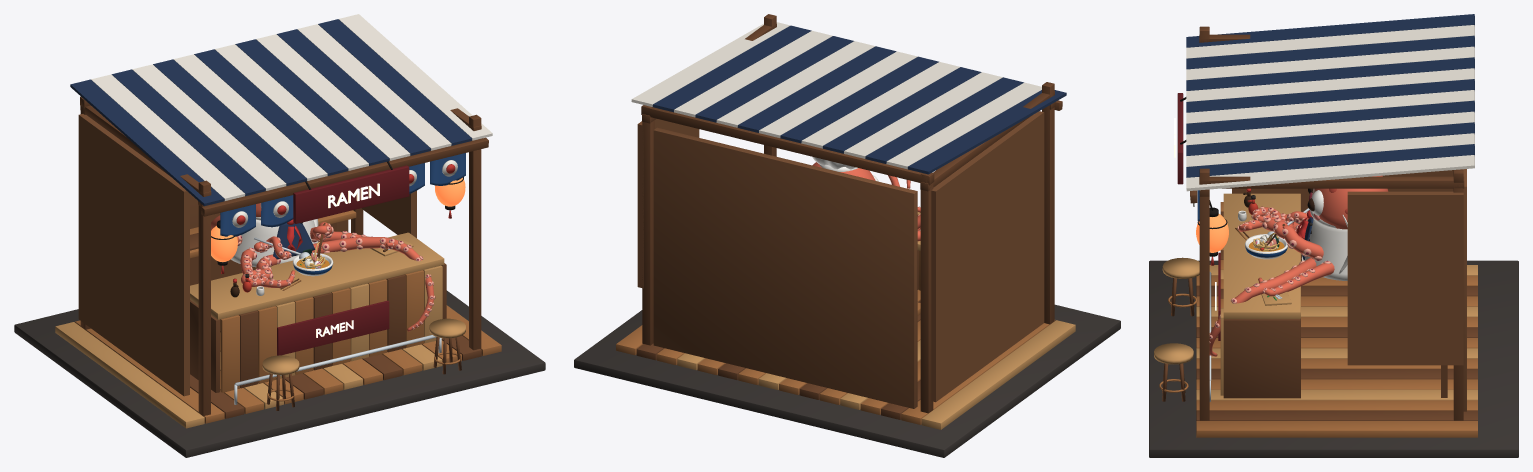
Rendered from octopus_chef_ramen.glb.
The picture shows the model from 3 angles, left to right: view 1: azimuth 30°, elevation 25°; view 2: azimuth 150°, elevation 25°; view 3: azimuth 270°, elevation 25°; orthographic projection. The views are drawn at different scales.
Visible parts, largest first — view 1: SideWallL, Plinth, CounterTop, ShopSign, Deck_0, Awning_0, Awning_9, Awning_5, Awning_6, Awning_11, Awning_3, Awning_8 (+48 smaller); view 2: BackWall, SideWallL, Plinth, Deck_0, BeamBack, Post_2, Awning_0, Awning_9, Awning_7, Awning_3, Awning_4, Awning_5 (+13 smaller); view 3: Plinth, SideWallR, CounterSideR, CounterTop, Deck_15, Awning_13, Awning_5, Awning_2, Awning_4, Awning_11, Awning_1, Awning_6 (+36 smaller).
Boxes of the visible parts, bbox=[...] form: SideWallL: bbox=[78, 114, 189, 396]; Plinth: bbox=[14, 290, 545, 457]; CounterTop: bbox=[190, 232, 444, 319]; ShopSign: bbox=[293, 165, 409, 223]; Deck_0: bbox=[55, 322, 204, 428]; Awning_0: bbox=[70, 79, 224, 206]; Awning_9: bbox=[256, 34, 410, 160]; Awning_5: bbox=[173, 54, 327, 180]; Awning_6: bbox=[194, 49, 348, 175]; Awning_11: bbox=[297, 24, 451, 150]; Awning_3: bbox=[132, 64, 286, 190]; Awning_8: bbox=[235, 39, 389, 165]; BackWall: bbox=[653, 127, 917, 408]; SideWallL: bbox=[931, 111, 1044, 402]; Plinth: bbox=[574, 304, 1120, 457]; Deck_0: bbox=[921, 320, 1075, 429]; BeamBack: bbox=[641, 105, 934, 185]; Post_2: bbox=[920, 172, 933, 413]; Awning_0: bbox=[907, 90, 1066, 174]; Awning_9: bbox=[716, 41, 875, 127]; Awning_7: bbox=[759, 51, 917, 137]; Awning_3: bbox=[844, 72, 1002, 158]; Awning_4: bbox=[822, 67, 981, 153]; Awning_5: bbox=[801, 62, 959, 148]; Plinth: bbox=[1149, 260, 1518, 457]; SideWallR: bbox=[1347, 191, 1463, 365]; CounterSideR: bbox=[1223, 319, 1300, 398]; CounterTop: bbox=[1223, 193, 1300, 318]; Deck_15: bbox=[1196, 421, 1477, 437]; Awning_13: bbox=[1186, 155, 1474, 191]; Awning_5: bbox=[1186, 68, 1474, 101]; Awning_2: bbox=[1186, 35, 1474, 69]; Awning_4: bbox=[1186, 57, 1474, 90]; Awning_11: bbox=[1186, 133, 1474, 166]; Awning_1: bbox=[1186, 25, 1474, 58]; Awning_6: bbox=[1186, 79, 1474, 112].
Size of the model in its own units: 4.05 by 2.74 by 3.35.
